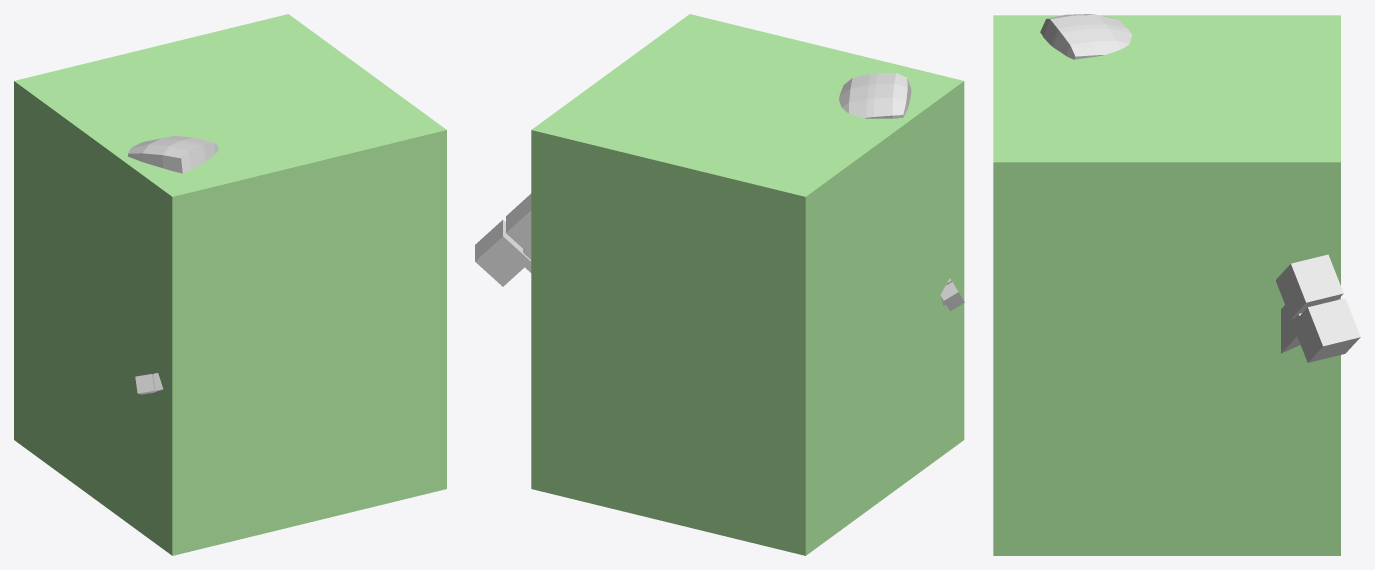
Rendered from Enemy_Melee01.fbx.
The picture shows the model from 3 angles, left to right: view 1: azimuth 30°, elevation 25°; view 2: azimuth 150°, elevation 25°; view 3: azimuth 270°, elevation 25°; orthographic projection. The views are drawn at different scales.
Visible parts, largest first — view 1: Cube; view 2: Cube; view 3: Cube.
Part boxes in pixels (left/top/right/bottom): Cube: left=14, top=14, right=446, bottom=555; Cube: left=475, top=14, right=964, bottom=555; Cube: left=993, top=14, right=1360, bottom=555.
Bounding box in the file's own units: 260 × 262 × 211.
